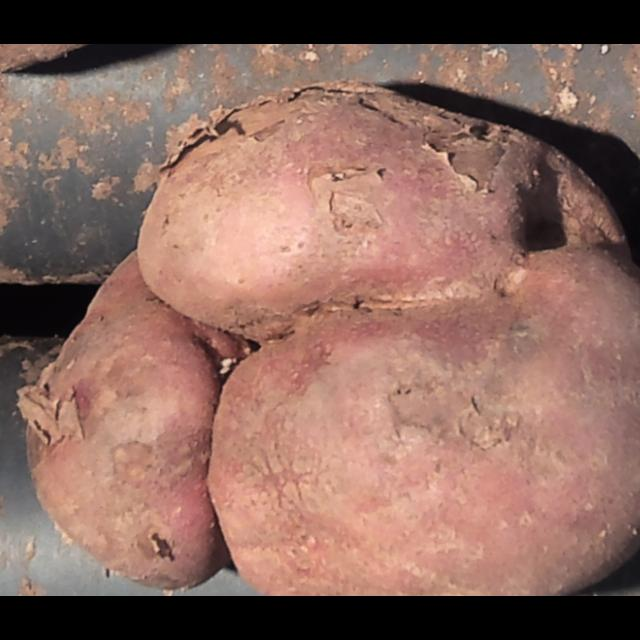Diseased-fungal potato: (8, 74, 640, 596)
